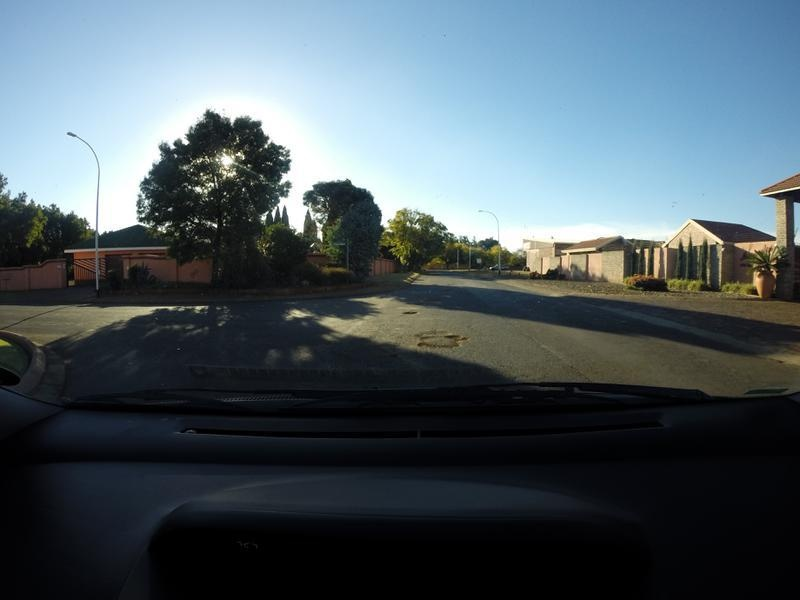pothole: (412, 322, 478, 358), (395, 305, 437, 320)
